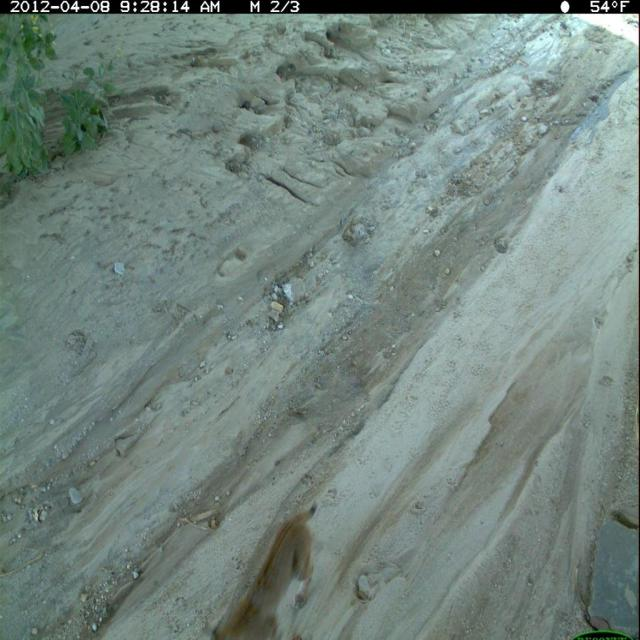bobcat: (208, 496, 324, 640)
